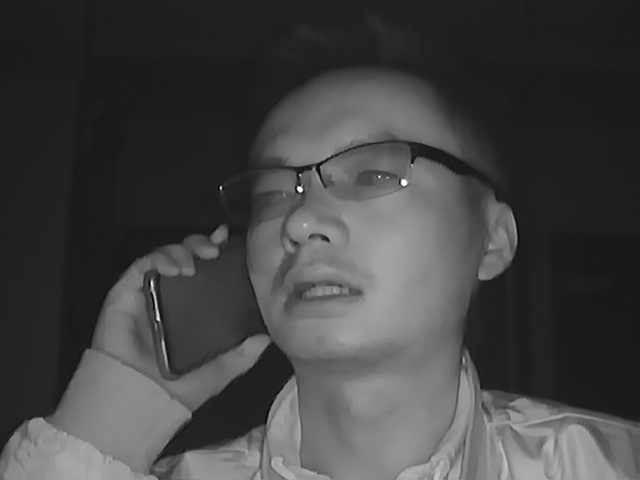hand: (103, 225, 237, 399)
